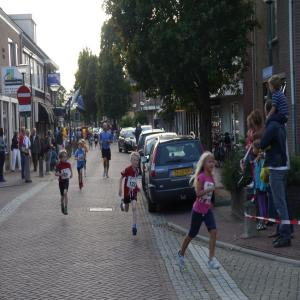Vehicle-registration-plate: (171, 168, 193, 178)
